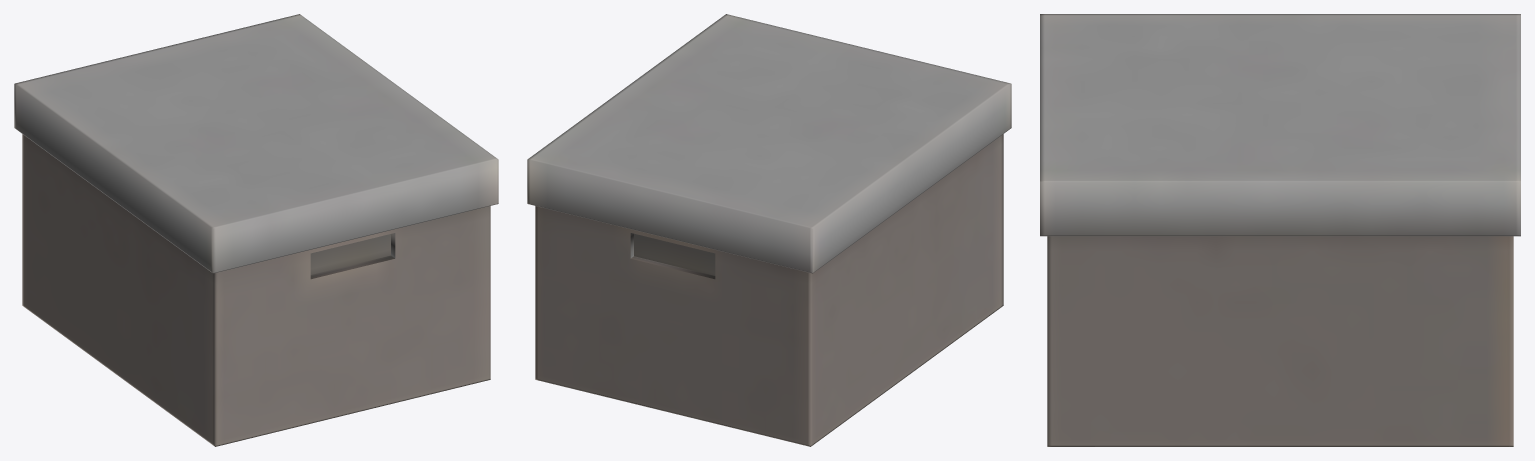
Rendered from Garage_Cardbox.FBX.
The picture shows the model from 3 angles, left to right: view 1: azimuth 30°, elevation 25°; view 2: azimuth 150°, elevation 25°; view 3: azimuth 270°, elevation 25°; orthographic projection. The views are drawn at different scales.
Parts seen in each view (by area): view 1: Garage_Cardbox; view 2: Garage_Cardbox; view 3: Garage_Cardbox.
Part boxes in pixels (x1,y1,x2,y2): Garage_Cardbox: (14, 14, 498, 446); Garage_Cardbox: (527, 14, 1011, 446); Garage_Cardbox: (1040, 14, 1520, 446).
Size of the model in its own units: 33.39 by 24.74 by 40.29.
